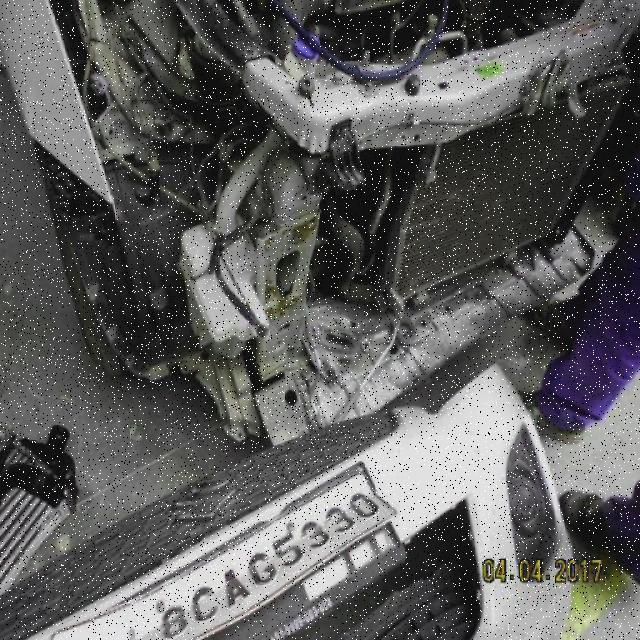car damage: (37, 6, 637, 436)
